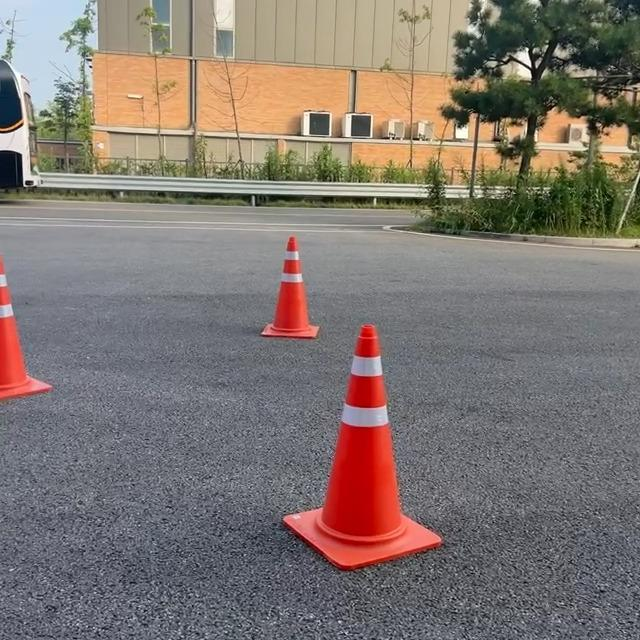fallen_object: (287, 290, 461, 605), (0, 213, 80, 435), (233, 226, 331, 346)
